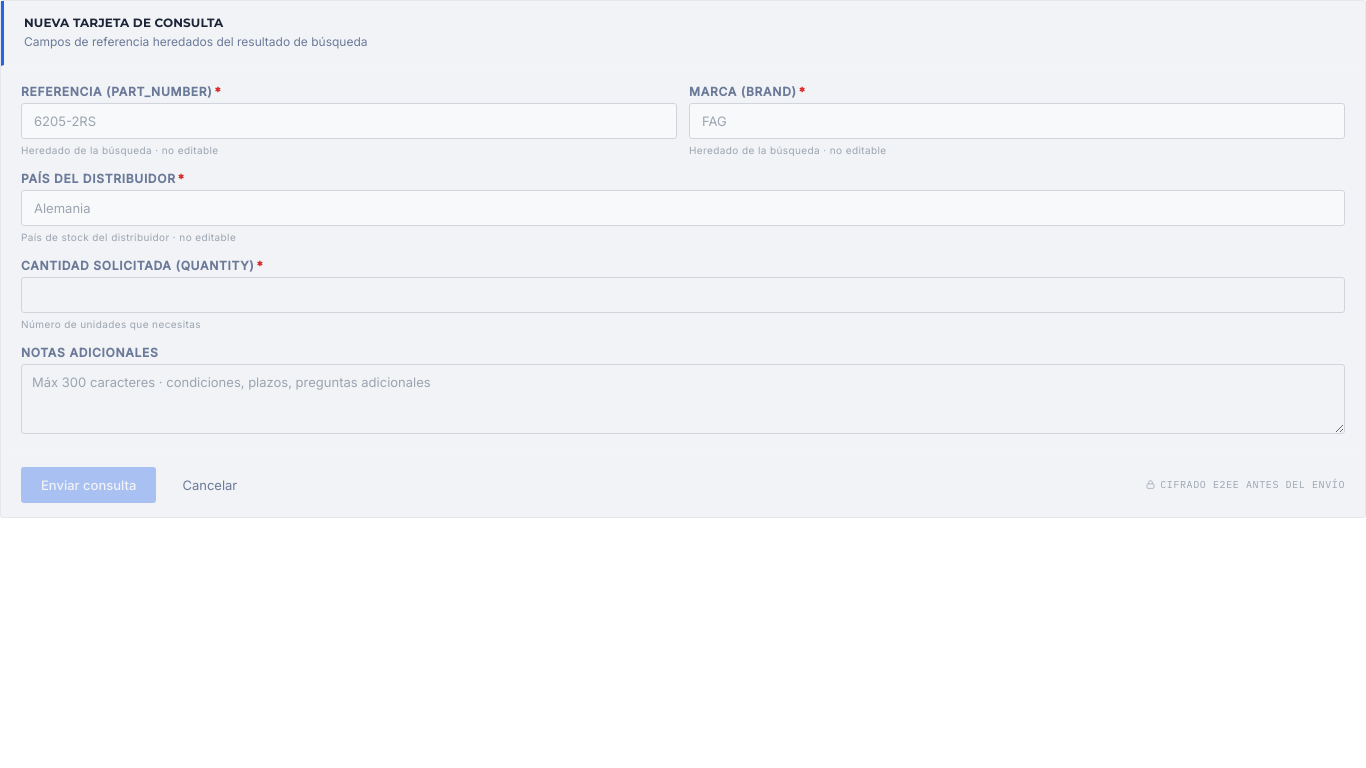
it: MSG-03 · formulario de consulta · cuándo se puede enviar › con 0 se queda deshabilitado y explica por qué
This screenshot has width=1366, height=768.
In the number field labelled "Cantidad solicitada (quantity)": (683, 295) [21,277,1345,313], type "0"
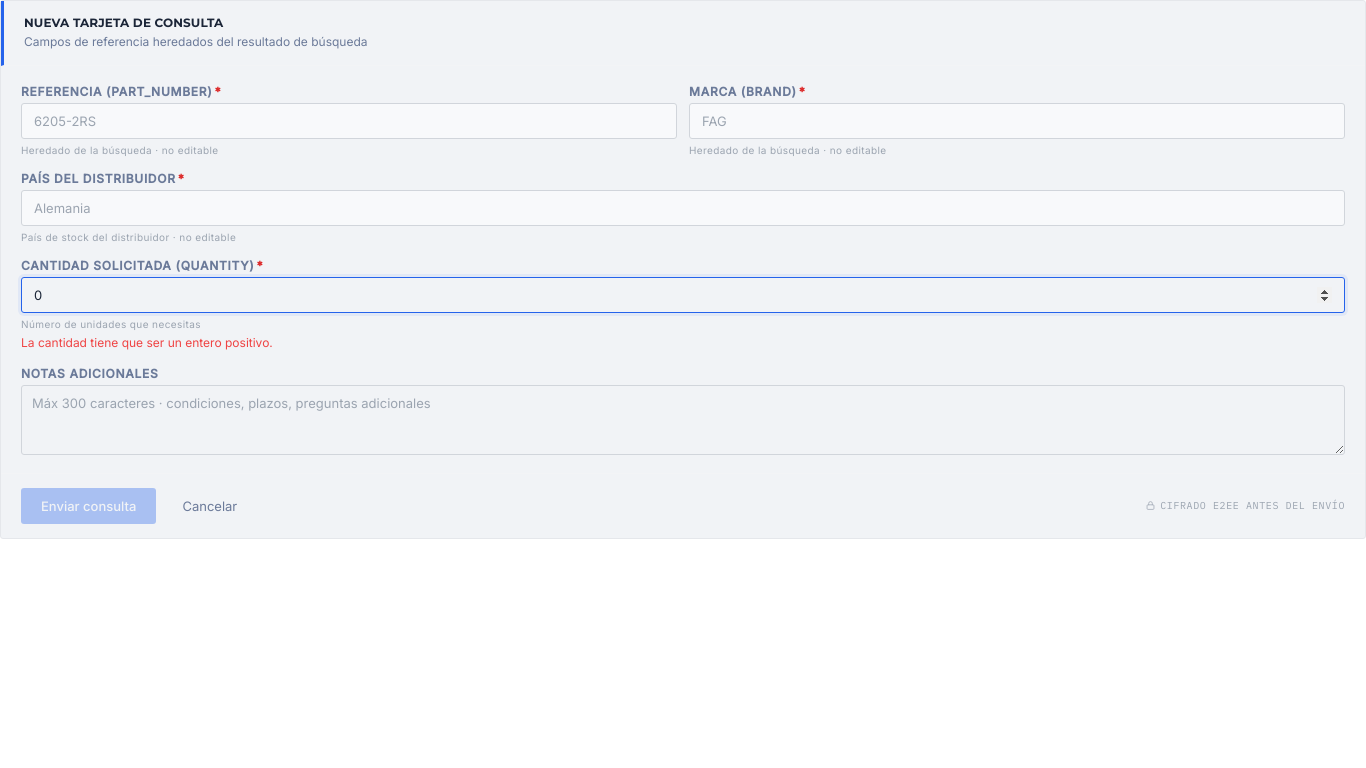
expect the button "Enviar consulta" is disabled: met, box [21,488,156,524]
expect the text "La cantidad tiene que ser un entero positivo." is shown: met, box [21,335,273,350]
